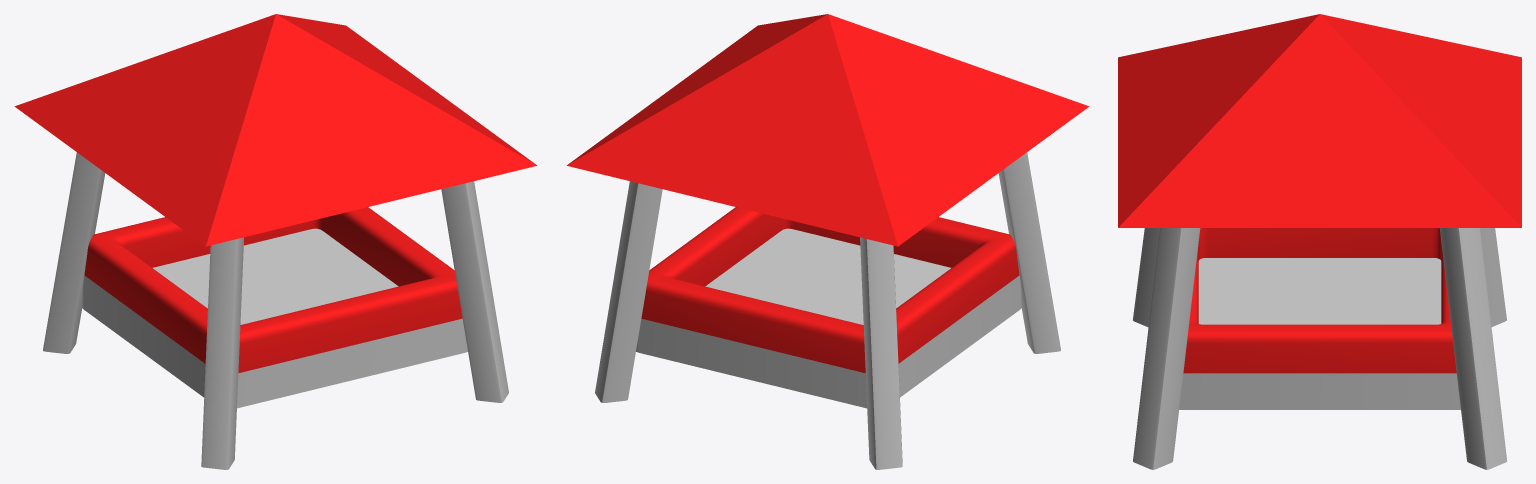
The model's file is Tower02.fbx.
3 renders of one model, left to right at view 1: azimuth 30°, elevation 25°; view 2: azimuth 150°, elevation 25°; view 3: azimuth 270°, elevation 25°, orthographic. The views are drawn at different scales.
Visible parts, largest first — view 1: TowerTop, Tower, TowerPillar; view 2: TowerTop, Tower, TowerPillar; view 3: TowerTop, Tower, TowerPillar.
Boxes of the visible parts, x1,y1,x2,y2 form: TowerTop: (14, 14, 536, 246); Tower: (82, 207, 467, 408); TowerPillar: (43, 152, 508, 469); TowerTop: (567, 14, 1089, 246); Tower: (636, 207, 1021, 408); TowerPillar: (595, 152, 1060, 469); TowerTop: (1118, 14, 1521, 227); Tower: (1179, 228, 1460, 409); TowerPillar: (1133, 228, 1506, 469).
Size of the model in its own units: 200 by 206 by 200.
